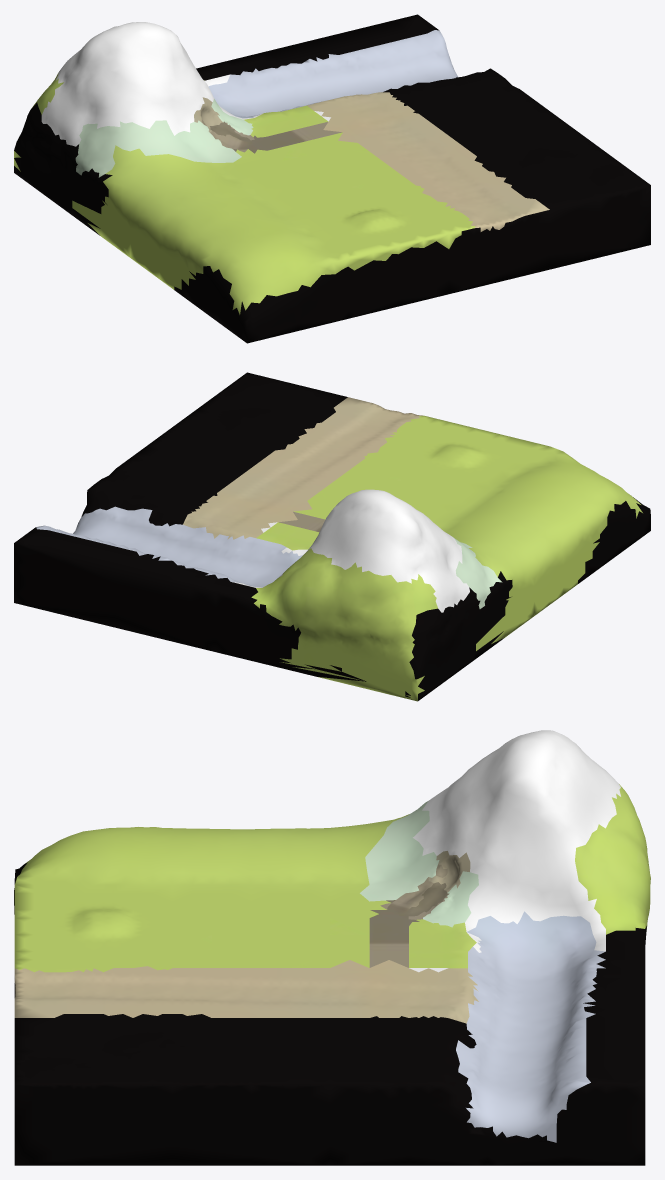
Rendered from MountMap.fbx.
3 views of the same model, one above another, from view 1: azimuth 30°, elevation 25°; view 2: azimuth 150°, elevation 25°; view 3: azimuth 270°, elevation 25° (orthographic). The views are drawn at different scales.
Parts seen in each view (by area): view 1: Plane; view 2: Plane; view 3: Plane.
Boxes of the visible parts, bbox=[...] form: Plane: bbox=[14, 14, 650, 343]; Plane: bbox=[14, 372, 650, 701]; Plane: bbox=[14, 730, 650, 1165].
Bounding box in the file's own units: 50351 × 18686 × 50504.
